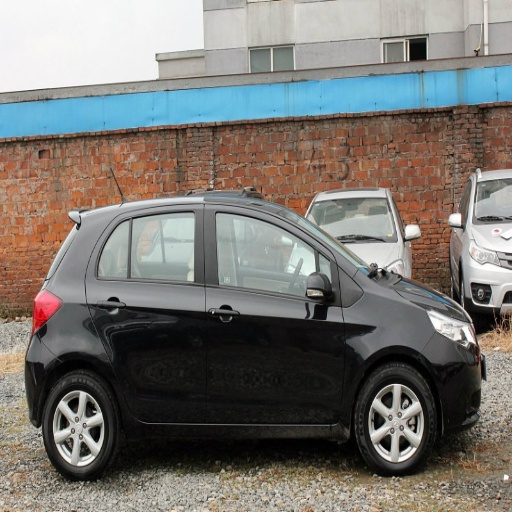back_right_door: (89, 201, 207, 424)
front_right_door: (207, 202, 345, 422)
front_right_light: (428, 310, 475, 352)
